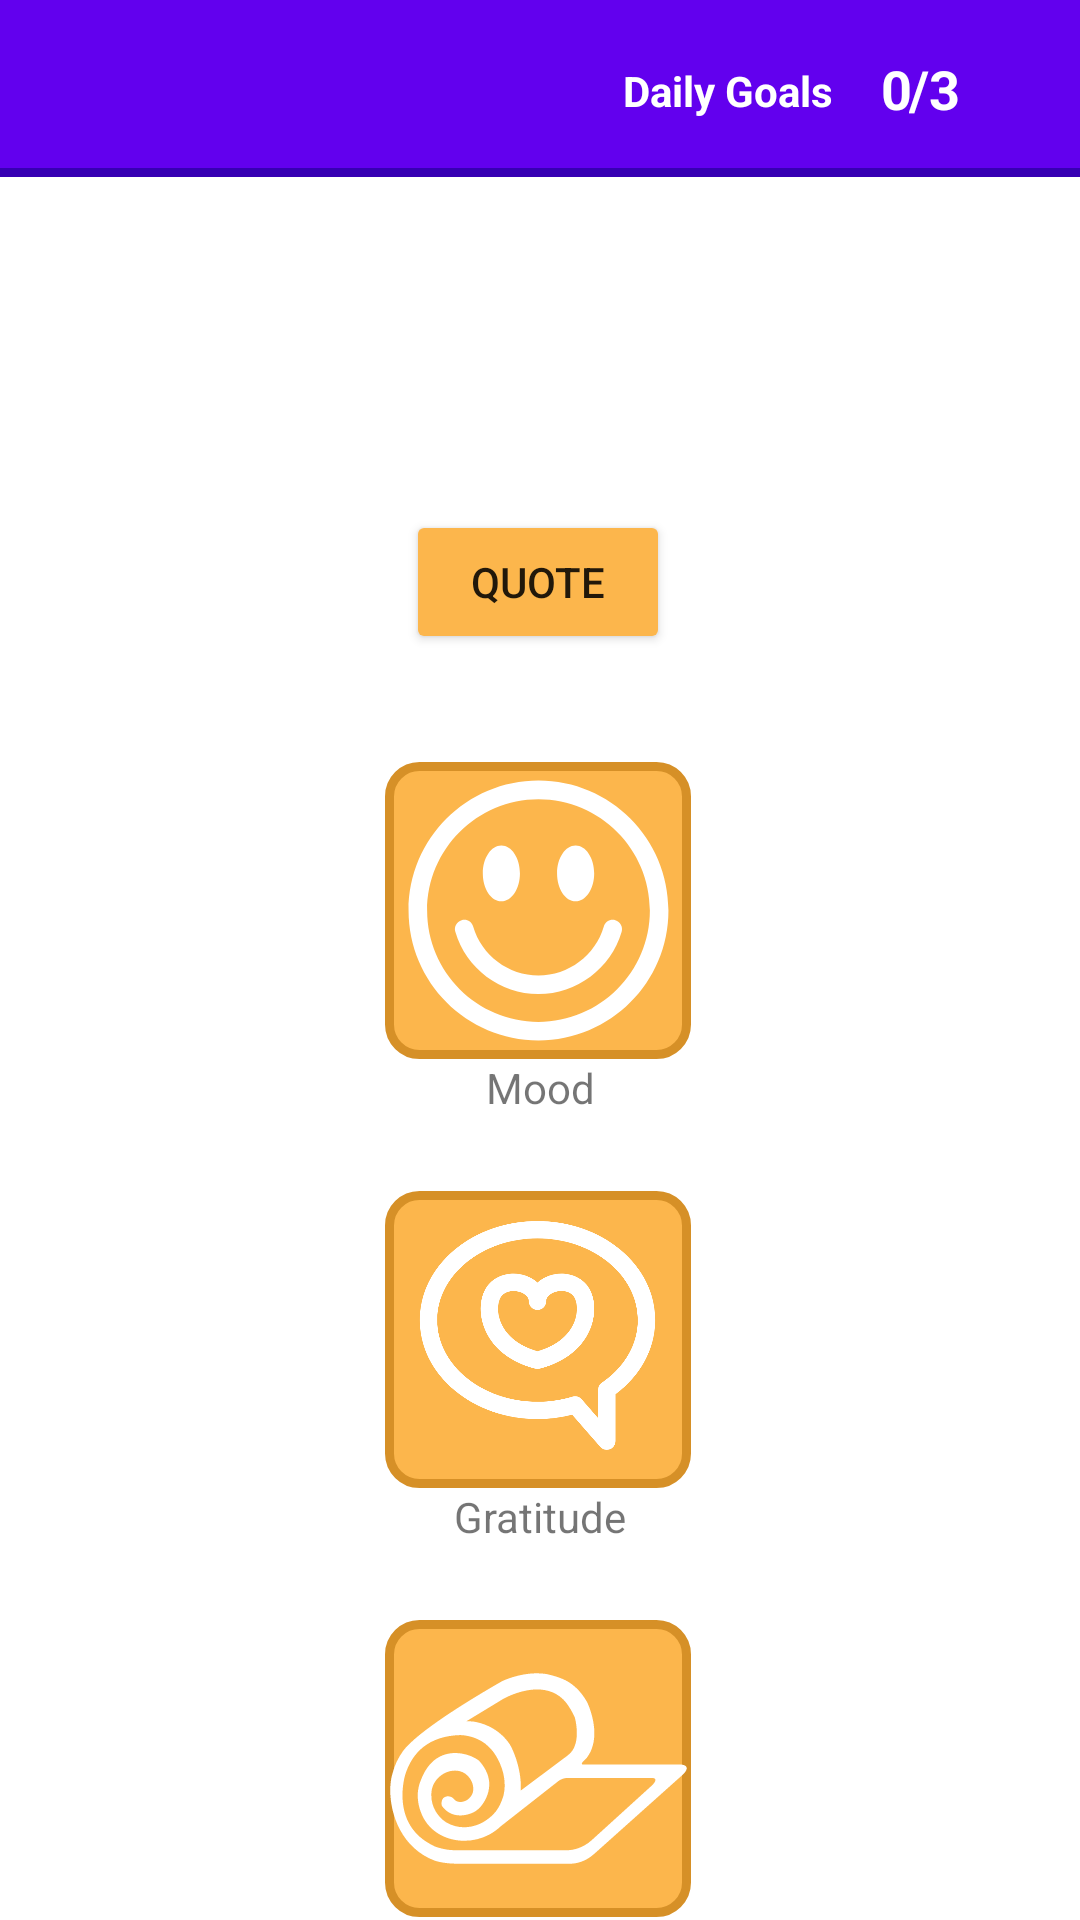

Named icons in this screenshot (1080 x 1920) and their bounding boxes, (x1,y1,x2,y2):
iconfinder happy: (385,762,691,1059)
